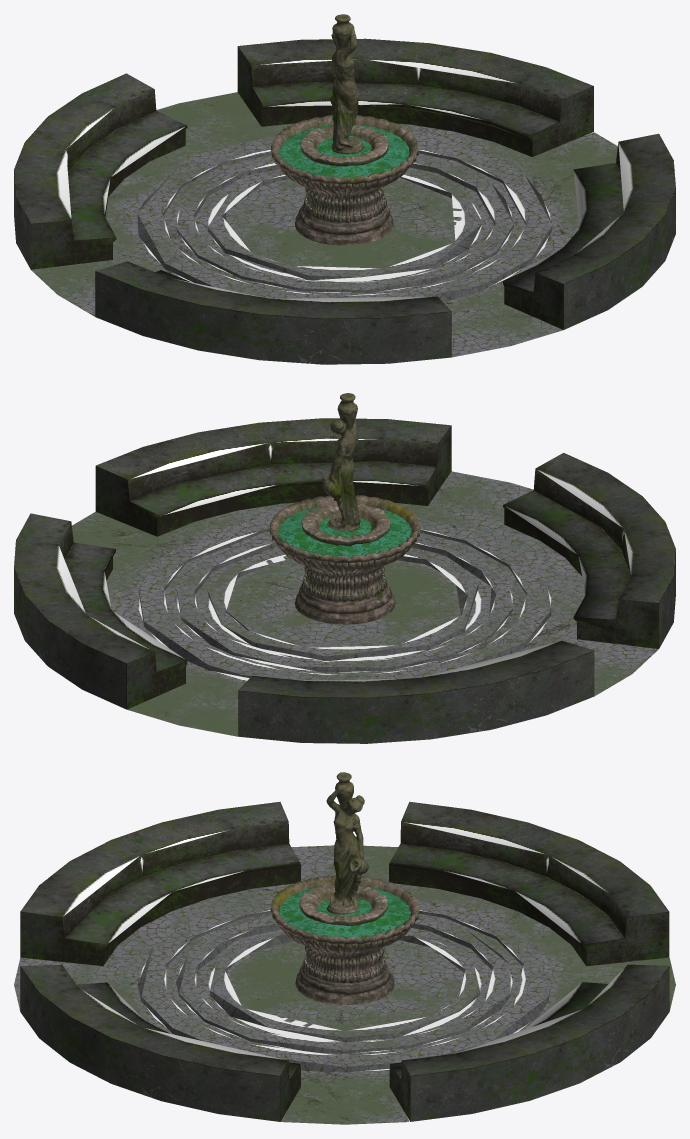
File: old_fountain.glb
The picture shows the model from 3 angles, top to bottom: view 1: azimuth 30°, elevation 25°; view 2: azimuth 150°, elevation 25°; view 3: azimuth 270°, elevation 25°; orthographic projection.
Visible parts, largest first — view 1: Fontain_1; view 2: Fontain_1; view 3: Fontain_1.
Part boxes in pixels (x1,y1,x2,y2): Fontain_1: (14, 14, 675, 364); Fontain_1: (14, 393, 675, 743); Fontain_1: (14, 772, 675, 1124).
Bounding box in the file's own units: 16.52 × 5.78 × 16.52.
5 materials, 5 textured.
